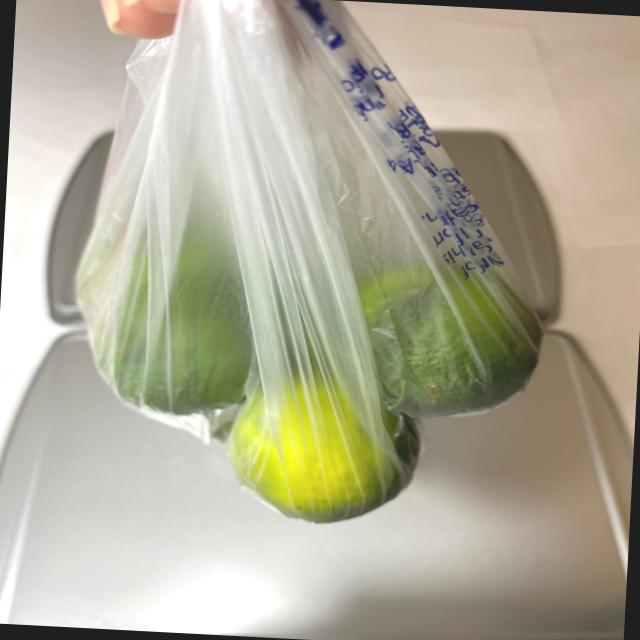lemon: (64, 196, 550, 541)
